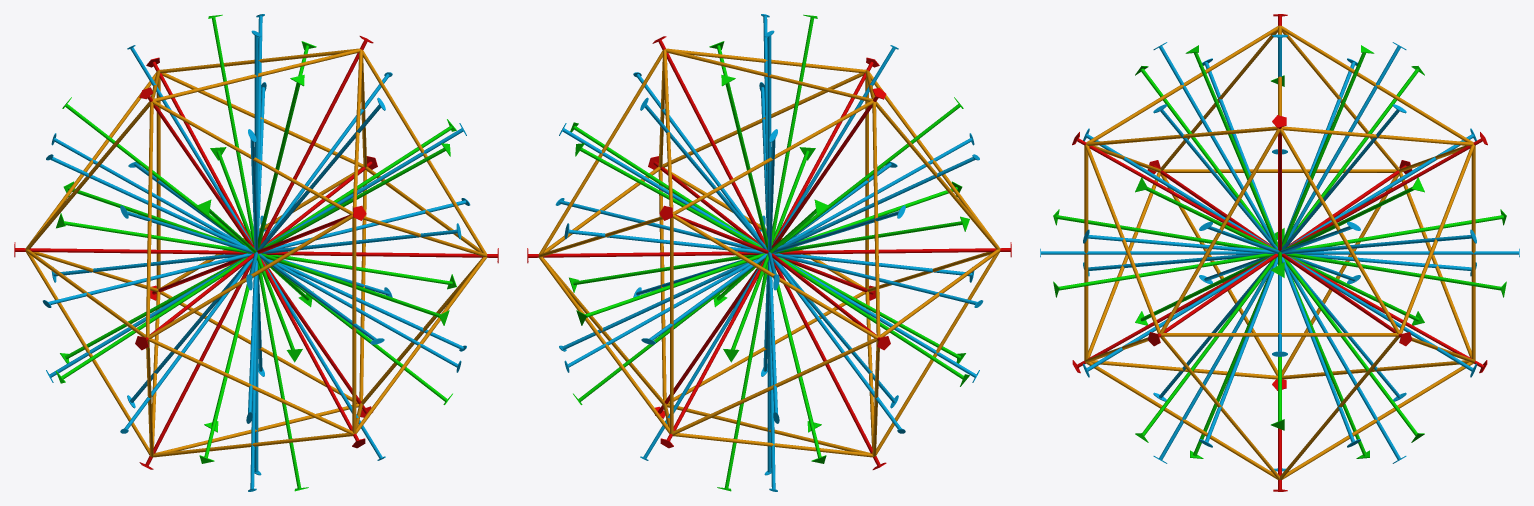
3 renders of one model, left to right at view 1: azimuth 30°, elevation 25°; view 2: azimuth 150°, elevation 25°; view 3: azimuth 270°, elevation 25°, orthographic.
Bounding box in the file's own units: 1004 × 1004 × 1004.
